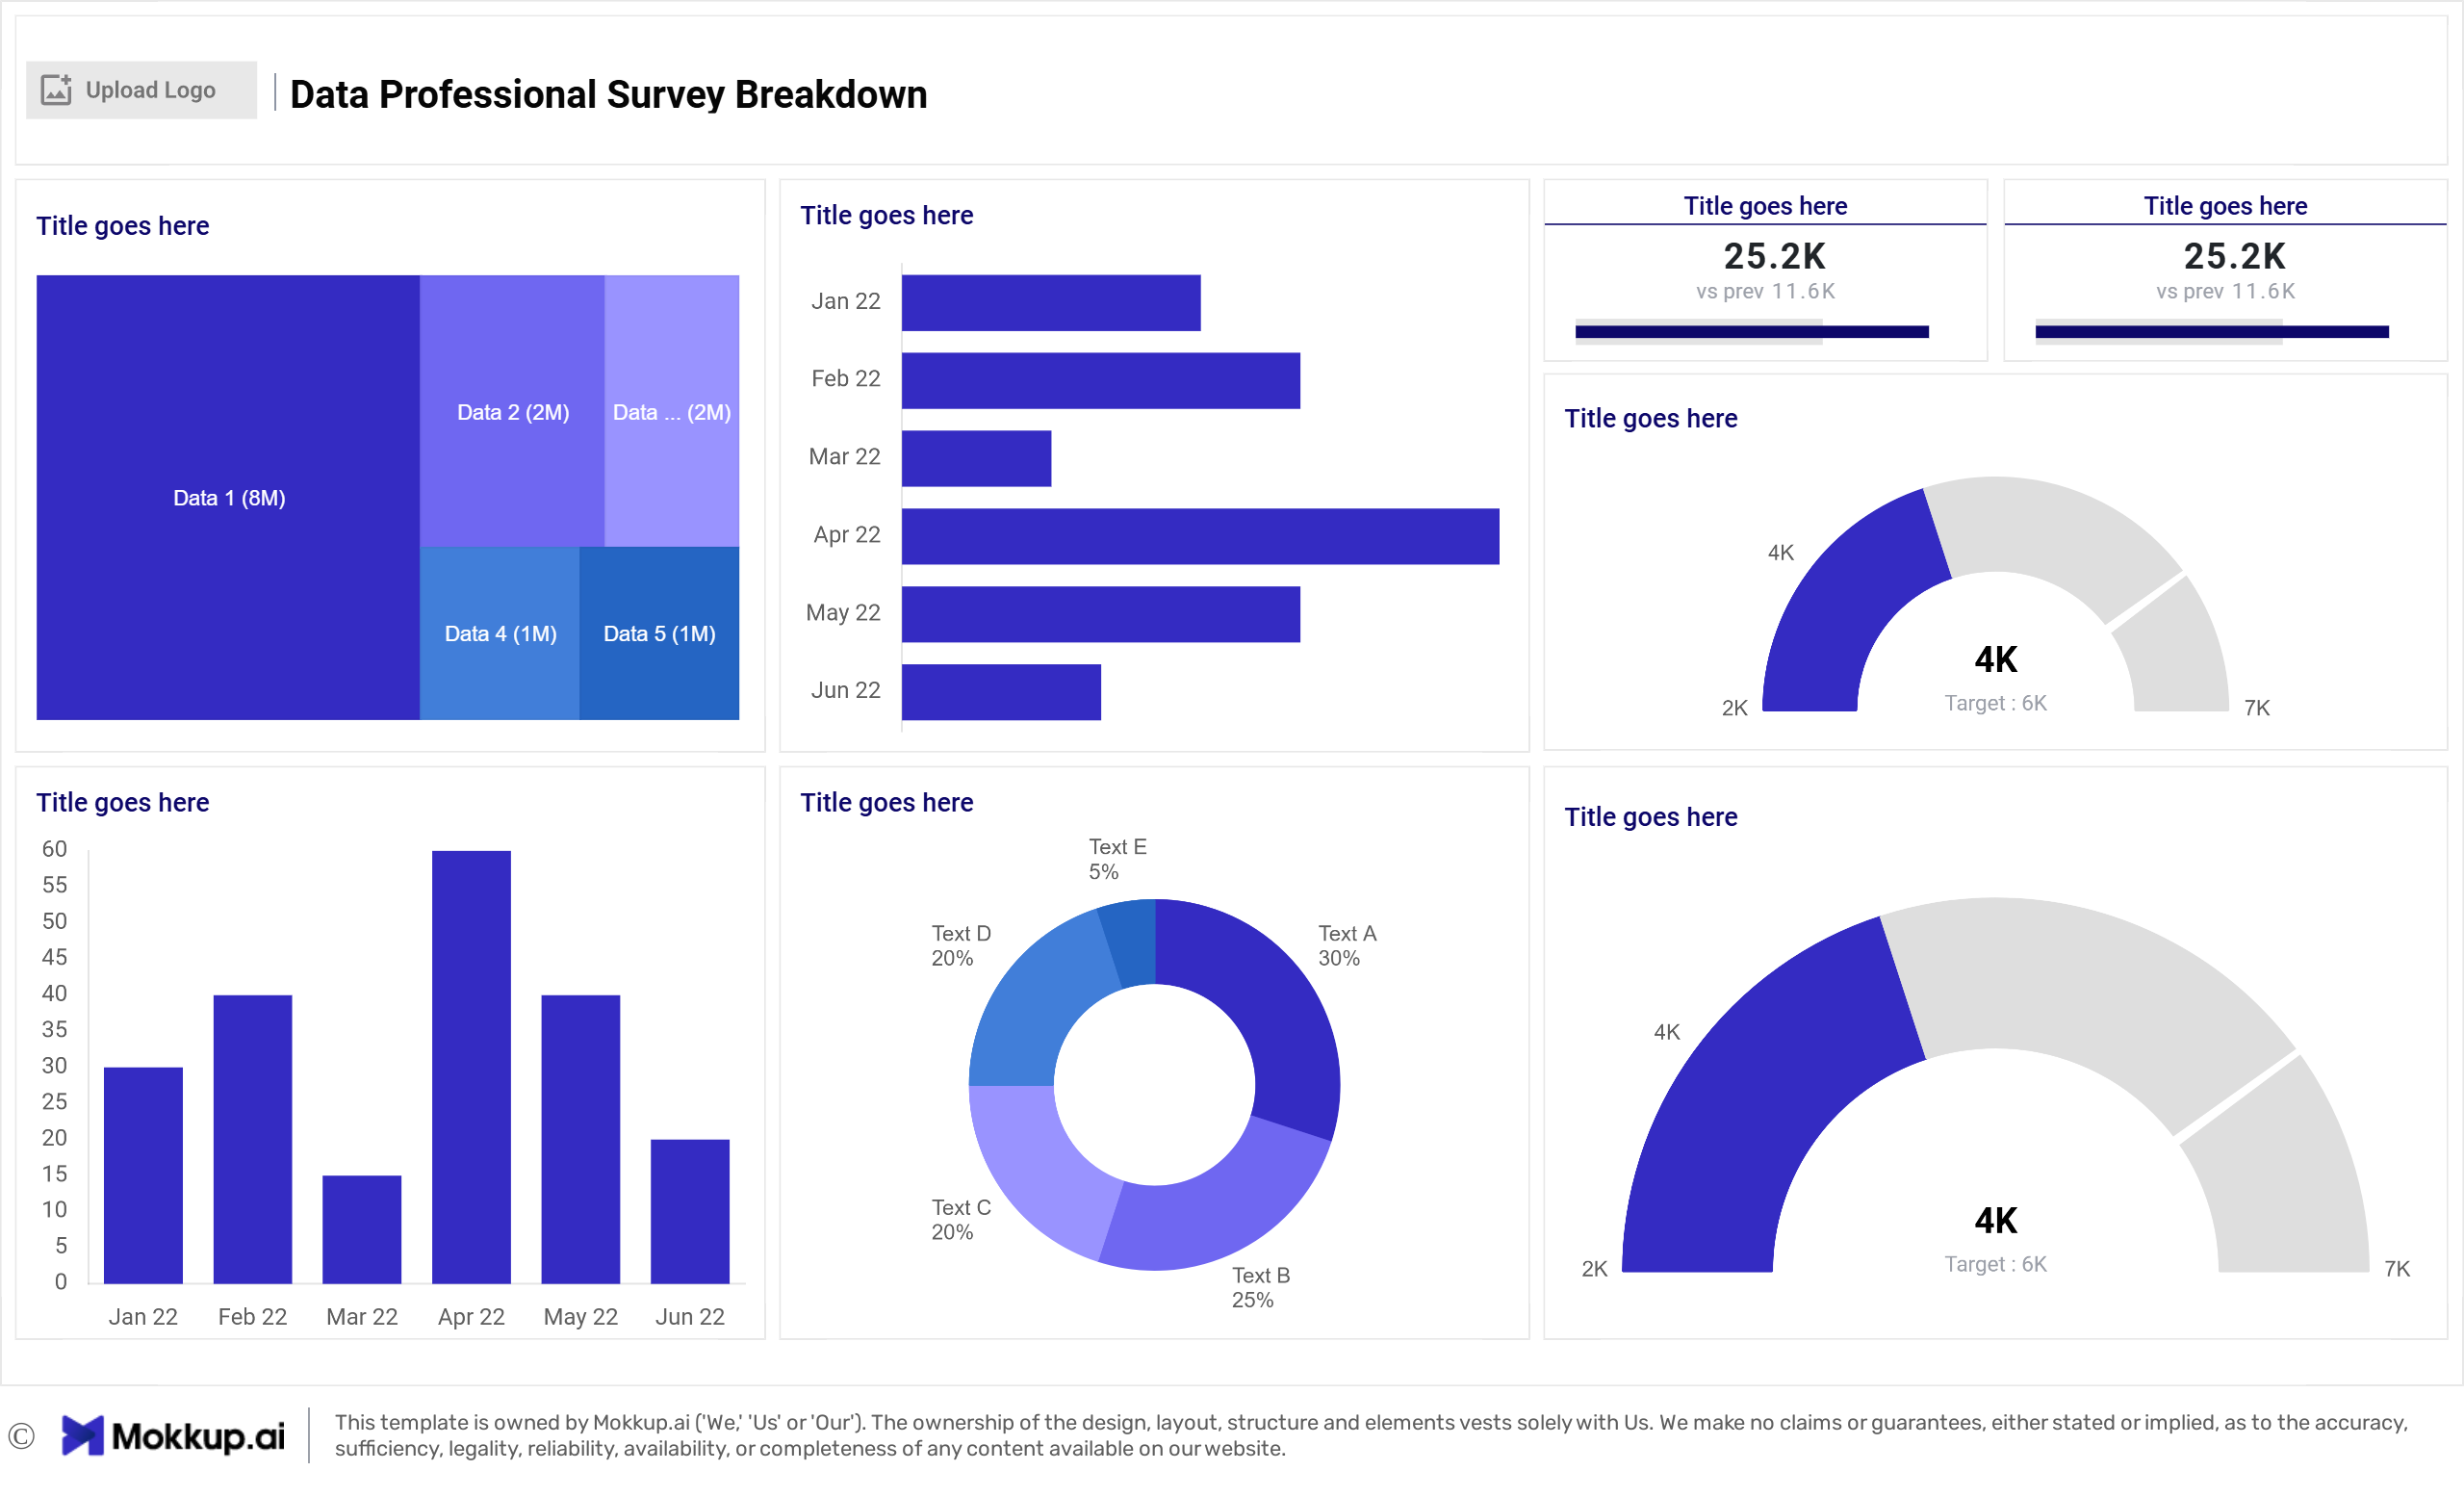

Layout of this report page (visuals, bound fields, positions):
{"tool":"powerbi","page":{"name":"Page 1","canvas":[1280,720],"ordinal":0},"visuals":[{"type":"textbox","box":[9.6,0,1270.7,96.1],"z":0},{"type":"card","fields":{"Values":["Count(Data Professional Survey.Unique ID)"]},"box":[857,97.7,190.7,140.7],"z":1000},{"type":"card","fields":{"Values":["Avg(Data Professional Survey.Q10 - Current Age)"]},"box":[1047.7,96.5,232.6,141.9],"z":2000},{"type":"barChart","title":"Average Salary By Job Title","fields":{"Category":["Data Professional Survey.Q1 - Which Title Best Fits your Current Role?.1"],"Y":["Avg(Data Professional Survey.Average Salary)"],"Series":["Data Professional Survey.Q1 - Which Title Best Fits your Current Role?.1"]},"box":[444.2,96.5,412.8,397.7],"z":3000},{"type":"columnChart","title":"Favourite Programming Language","fields":{"Category":["Data Professional Survey.Q5 - Favorite Programming Language.1"],"Y":["CountNonNull(Data Professional Survey.Unique ID)"],"Series":["Data Professional Survey.Q1 - Which Title Best Fits your Current Role?.1"]},"box":[10.5,377.9,395.3,343],"z":4000},{"type":"treemap","title":"Country Of Survey Takers","fields":{"Group":["Data Professional Survey.Q11 - Which Country do you live in?.1"],"Values":["Count(Data Professional Survey.Q11 - Which Country do you live in?.1)"]},"box":[0,97.7,405.8,280.2],"z":5000},{"type":"gauge","title":"Happy With Work Life/Balance","fields":{"Y":["Avg(Data Professional Survey.Q6 - How Happy are you in your Current Position with the following? (Work/Life Balance))"],"MinValue":["Min(Data Professional Survey.Q6 - How Happy are you in your Current Position with the following? (Work/Life Balance))1"],"MaxValue":["Max(Data Professional Survey.Q6 - How Happy are you in your Current Position with the following? (Work/Life Balance))2"]},"box":[857,238.4,423.3,212.8],"z":6000},{"type":"gauge","title":"Happy WIth Salary","fields":{"Y":["Avg(Data Professional Survey.Q6 - How Happy are you in your Current Position with the following? (Salary))"],"MinValue":["Min(Data Professional Survey.Q6 - How Happy are you in your Current Position with the following? (Salary))"],"MaxValue":["Max(Data Professional Survey.Q6 - How Happy are you in your Current Position with the following? (Salary))"]},"box":[857,464,423.3,253.5],"z":7000},{"type":"donutChart","title":"Difficulty To Break Into Data","fields":{"Category":["Data Professional Survey.Q7 - How difficult was it for you to break into Data?"],"Y":["CountNonNull(Data Professional Survey.Q7 - How difficult was it for you to break into Data?)"]},"box":[444.2,503.5,412.8,216.3],"z":8000}]}

Visuals, with their boxes on the page's 1280x720 design canvas (x1, y1, x2, y2). These are canvas units, not pixel positions in the 2464x1497 screenshot, which may show the page scaled, cropped or inside an application window:
textbox: (10, 0, 1280, 96)
card - Count(Data Professional Survey.Unique ID): (857, 98, 1048, 238)
card - Avg(Data Professional Survey.Q10 - Current Age): (1048, 96, 1280, 238)
"Average Salary By Job Title" barChart: (444, 96, 857, 494)
"Favourite Programming Language" columnChart: (10, 378, 406, 721)
"Country Of Survey Takers" treemap: (0, 98, 406, 378)
"Happy With Work Life/Balance" gauge: (857, 238, 1280, 451)
"Happy WIth Salary" gauge: (857, 464, 1280, 718)
"Difficulty To Break Into Data" donutChart: (444, 504, 857, 720)
